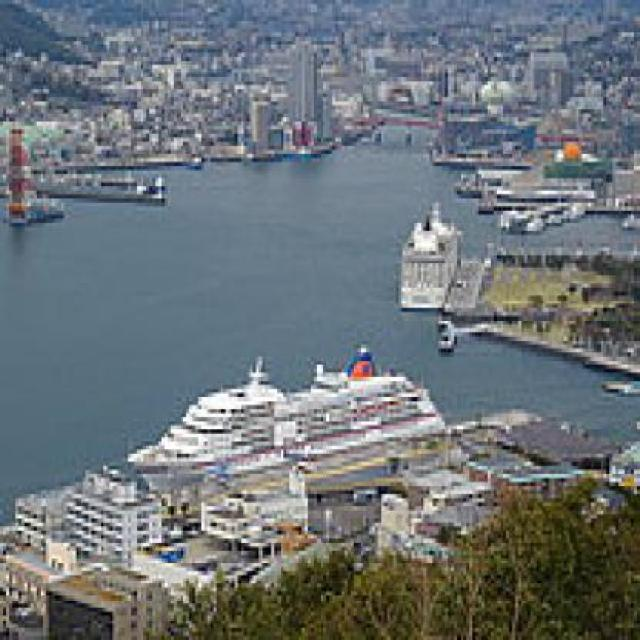cruise: (113, 341, 306, 495)
